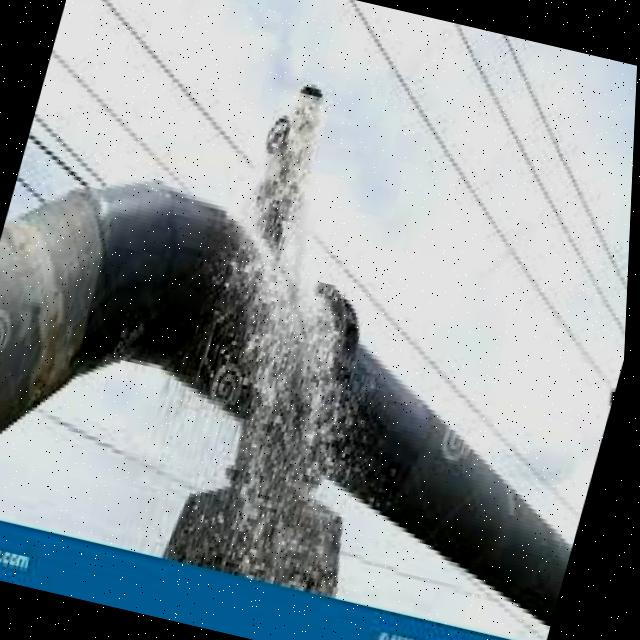corrosion: (84, 15, 506, 534)
